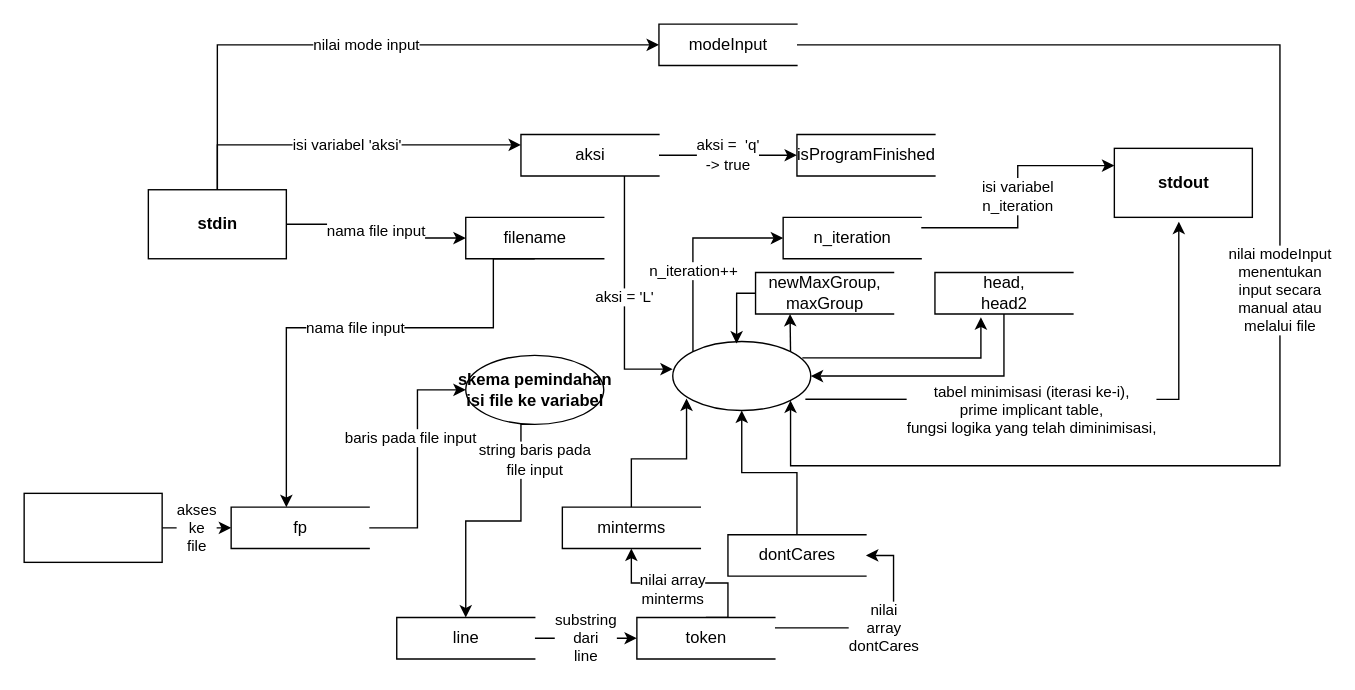
This 1355x690 diagram has some shape labels left out. Here are the shapes that lost their labels. From the top down, the centre of each, then its label:
point (741, 375): logicMinimization()
point (92, 527): file input
